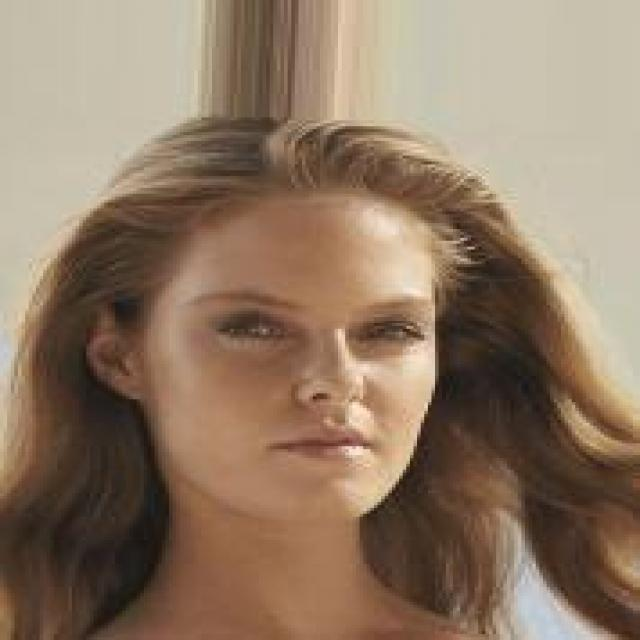nomask: (90, 118, 539, 526)
